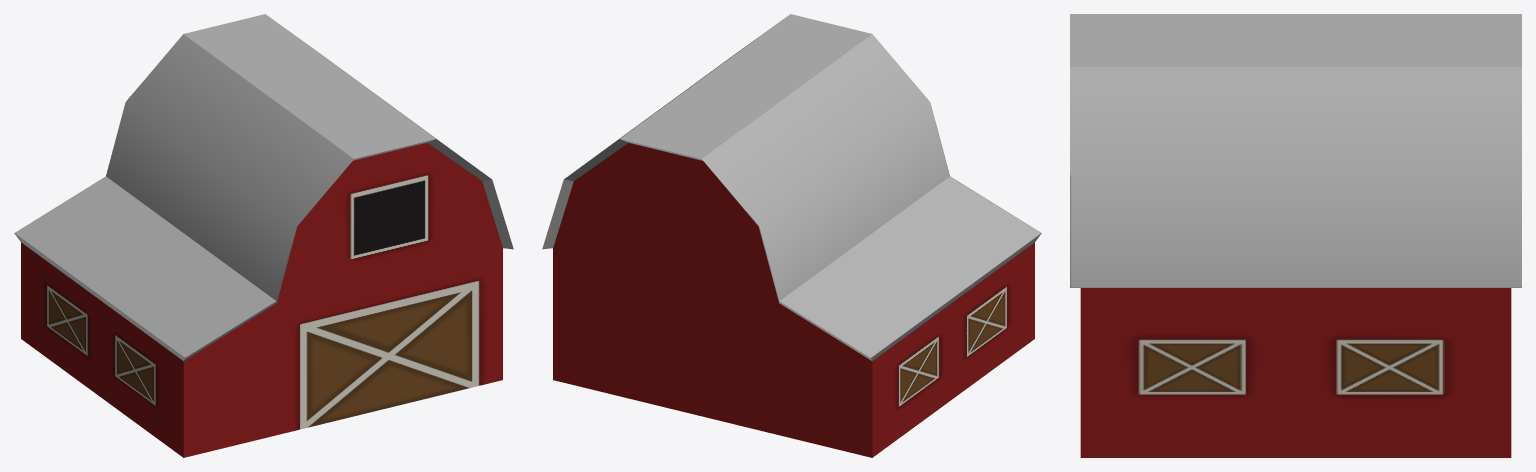
Rendered from barn.fbx.
3 views of the same model, side by side, from view 1: azimuth 30°, elevation 25°; view 2: azimuth 150°, elevation 25°; view 3: azimuth 270°, elevation 25° (orthographic). The views are drawn at different scales.
Parts seen in each view (by area): view 1: pCube1; view 2: pCube1; view 3: pCube1.
Boxes of the visible parts, x1,y1,x2,y2 form: pCube1: (14,14,513,457); pCube1: (542,14,1041,457); pCube1: (1070,14,1521,457).
Bounding box in the file's own units: 15.21 × 11.55 × 13.69.
